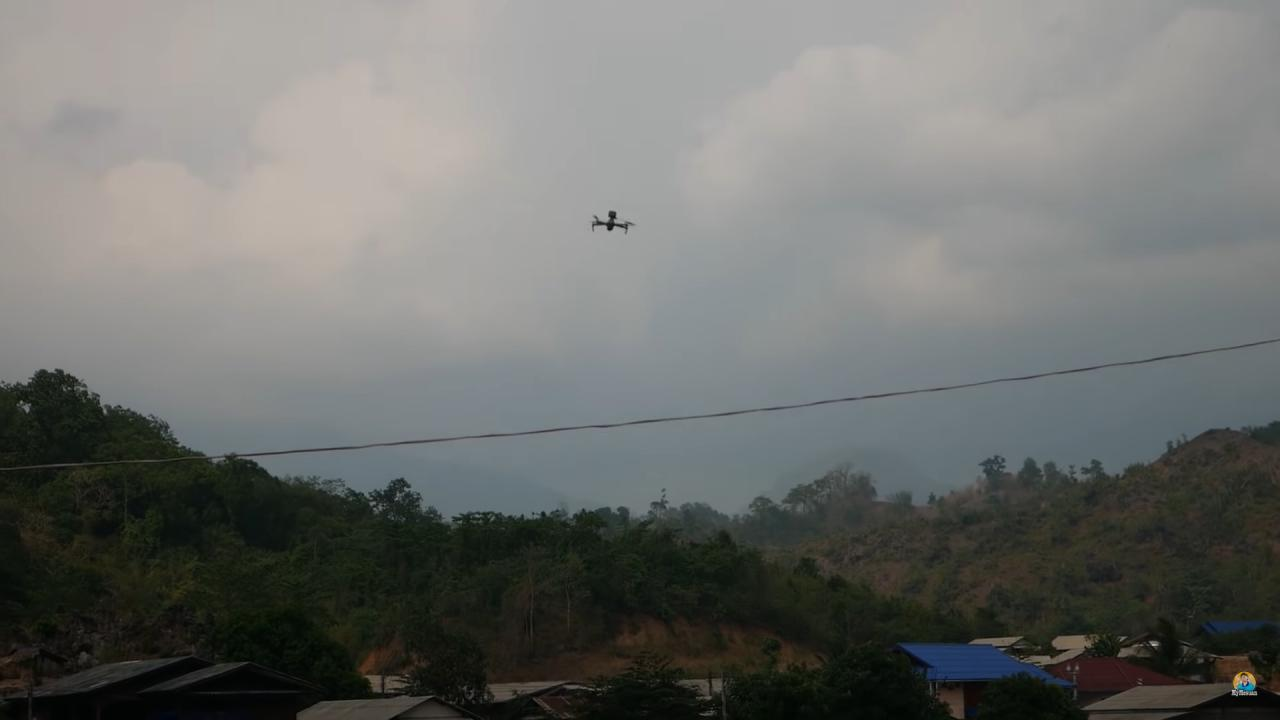Drone: (578, 203, 645, 242)
